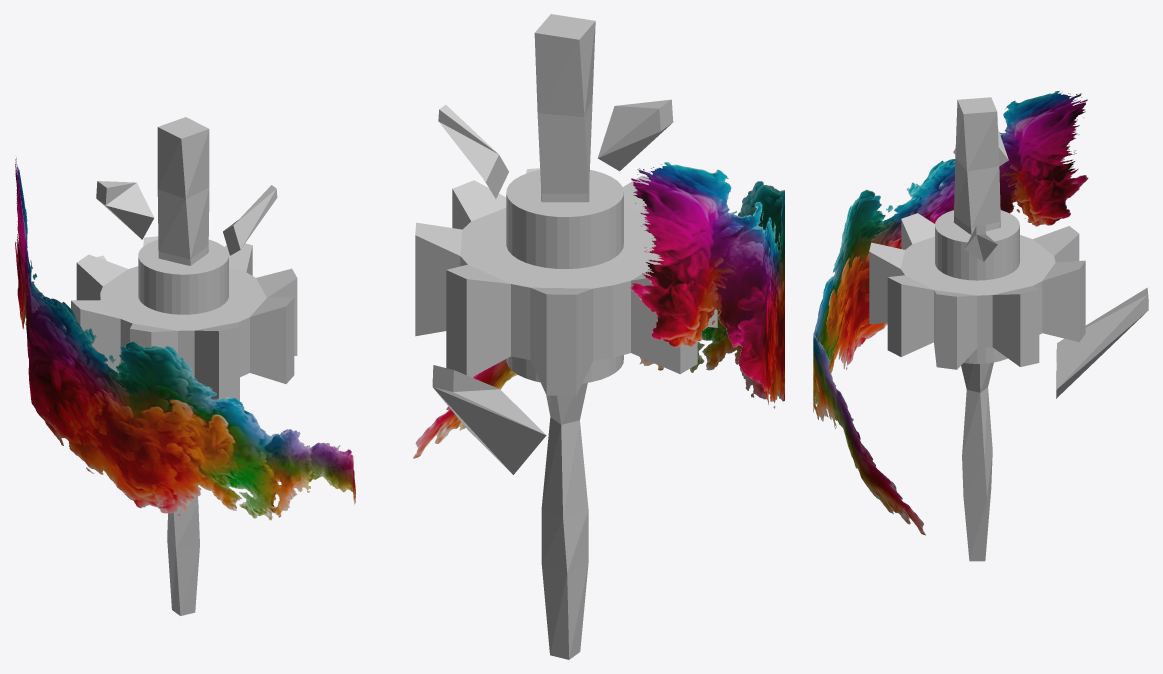
File: spiral.obj
3 renders of one model, left to right at view 1: azimuth 30°, elevation 25°; view 2: azimuth 150°, elevation 25°; view 3: azimuth 270°, elevation 25°, orthographic. The views are drawn at different scales.
Parts seen in each view (by area): view 1: Cylinder.002, Cylinder.001, Cube_Cube.001, Cylinder, Cube.002_Cube.003, Cube.001_Cube.002; view 2: Cylinder.001, Cylinder.002, Cube_Cube.001, Cylinder, Cube.003_Cube.004, Cube.002_Cube.003, Cube.001_Cube.002; view 3: Cylinder.002, Cylinder.001, Cube_Cube.001, Cylinder, Cube.003_Cube.004, Cube.001_Cube.002.
Boxes of the visible parts, <box> form: Cylinder.002: <box>15,158,355,520</box>; Cylinder.001: <box>71,236,297,401</box>; Cube_Cube.001: <box>157,117,209,615</box>; Cylinder: <box>138,239,228,314</box>; Cube.002_Cube.003: <box>96,181,154,239</box>; Cube.001_Cube.002: <box>223,185,277,255</box>; Cylinder.001: <box>415,168,717,395</box>; Cylinder.002: <box>413,162,784,458</box>; Cube_Cube.001: <box>534,14,595,659</box>; Cylinder: <box>506,170,623,383</box>; Cube.003_Cube.004: <box>432,365,546,474</box>; Cube.002_Cube.003: <box>597,99,673,171</box>; Cube.001_Cube.002: <box>438,104,508,198</box>; Cylinder.002: <box>813,90,1088,535</box>; Cylinder.001: <box>869,213,1085,369</box>; Cube_Cube.001: <box>953,97,1000,561</box>; Cylinder: <box>935,210,1019,363</box>; Cube.003_Cube.004: <box>1056,287,1148,398</box>; Cube.001_Cube.002: <box>964,225,997,261</box>.
Size of the model in its own units: 1.66 by 2.95 by 1.68.
